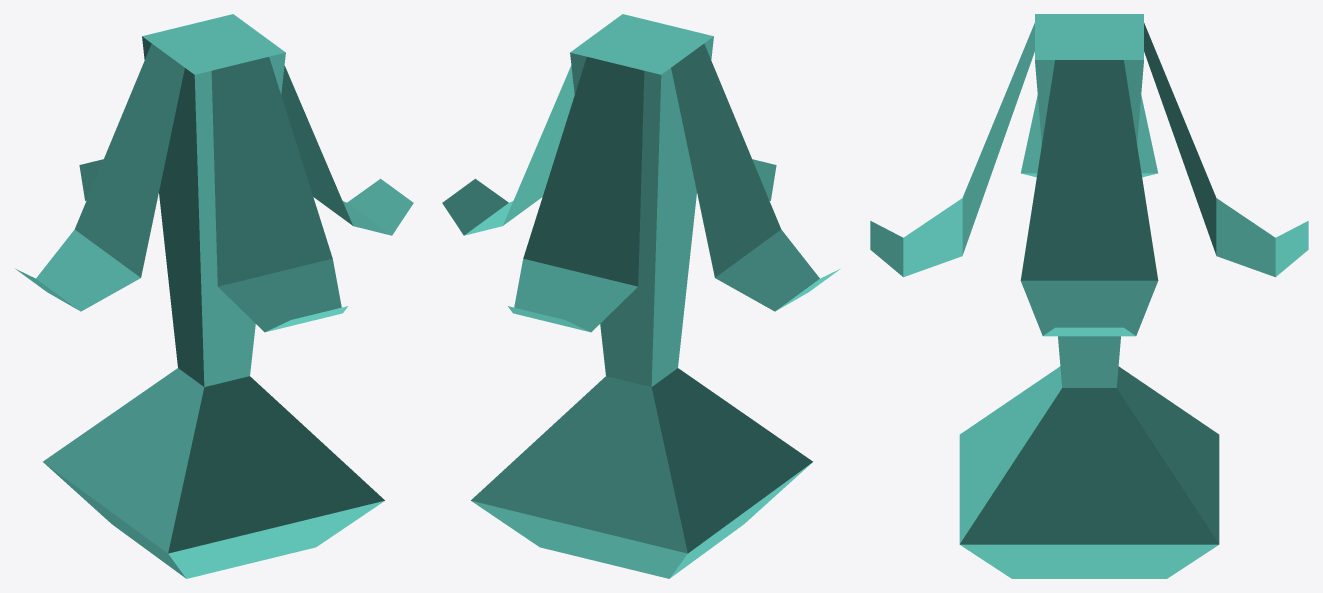
Rendered from flower.obj.
3 views of the same model, side by side, from view 1: azimuth 30°, elevation 25°; view 2: azimuth 150°, elevation 25°; view 3: azimuth 270°, elevation 25° (orthographic). The views are drawn at different scales.
Parts seen in each view (by area): view 1: flower_red2.001; view 2: flower_red2.001; view 3: flower_red2.001.
Part boxes in pixels (x1,y1,x2,y2): flower_red2.001: (15,14,413,578); flower_red2.001: (442,14,840,578); flower_red2.001: (870,14,1308,578).
Size of the model in its own units: 1.71 by 2.2 by 1.71.
